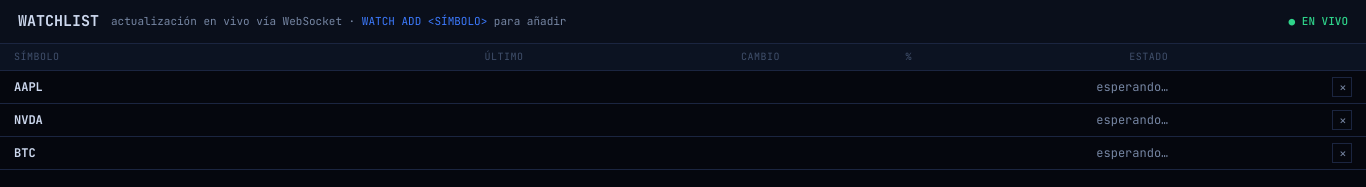
it: WatchlistPanel › feat-20: quitar un símbolo lo elimina de la tabla
This screenshot has width=1366, height=187.
Click the button named "Quitar AAPL de la watchlist": click(1342, 87) [1332,77,1352,97]
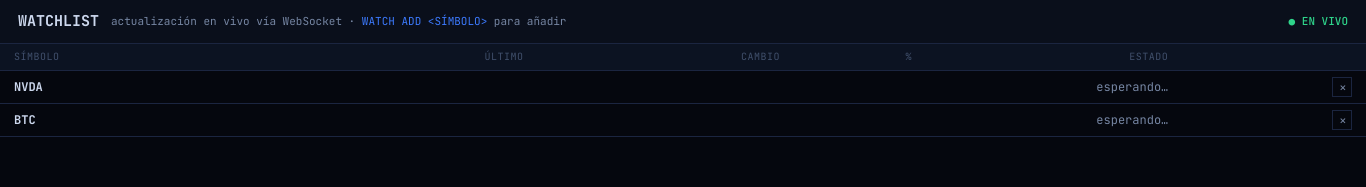
Expected: the button "AAPL" is gone
